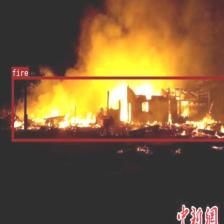fire: (11, 76, 224, 141)
